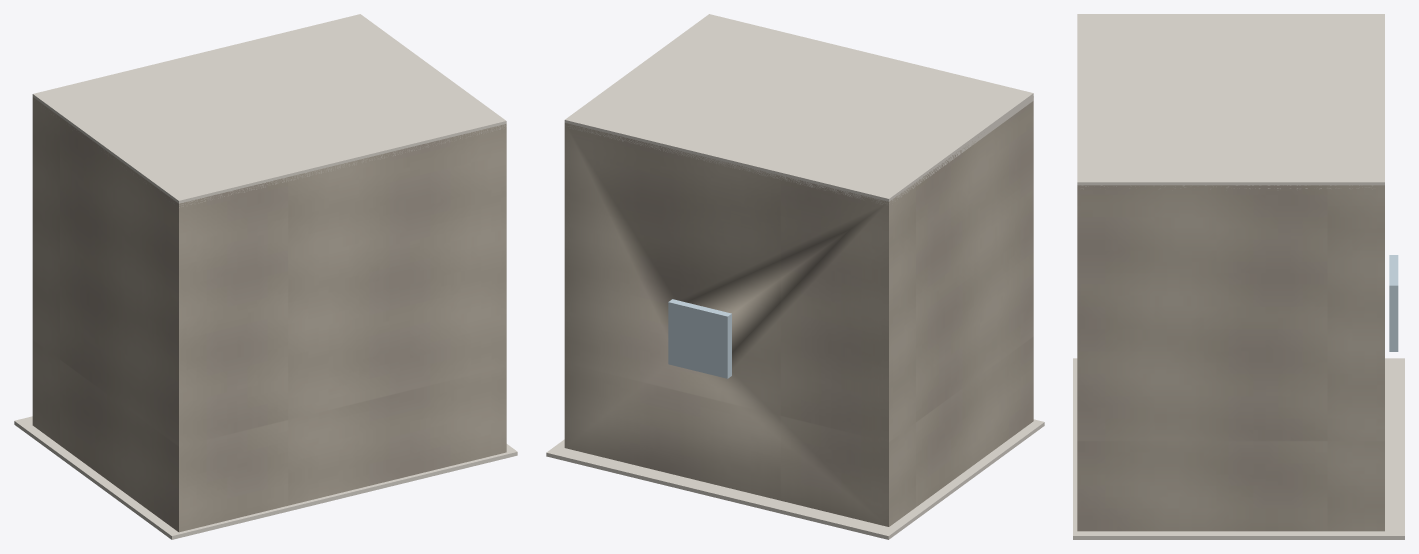
File: room.glb
The picture shows the model from 3 angles, left to right: view 1: azimuth 30°, elevation 25°; view 2: azimuth 150°, elevation 25°; view 3: azimuth 270°, elevation 25°; orthographic projection. The views are drawn at different scales.
Parts seen in each view (by area): view 1: front_wall, ceiling, side_wall, floor, back_wall; view 2: back_wall, ceiling, side_wall, floor, window_backing, front_wall, right_wall; view 3: right_wall, ceiling, floor, front_wall, back_wall, window_backing.
Boxes of the visible parts, x1=… form: front_wall: x1=175, y1=124, x2=506, y2=532; ceiling: x1=32, y1=14, x2=506, y2=207; side_wall: x1=32, y1=97, x2=175, y2=529; floor: x1=14, y1=416, x2=517, y2=539; back_wall: x1=32, y1=97, x2=35, y2=427; back_wall: x1=564, y1=123, x2=891, y2=526; ceiling: x1=564, y1=14, x2=1033, y2=204; side_wall: x1=883, y1=103, x2=1030, y2=526; floor: x1=546, y1=419, x2=1044, y2=539; window_backing: x1=668, y1=299, x2=731, y2=378; front_wall: x1=1030, y1=96, x2=1033, y2=422; right_wall: x1=564, y1=123, x2=569, y2=447; right_wall: x1=1084, y1=185, x2=1384, y2=531; ceiling: x1=1077, y1=14, x2=1384, y2=189; floor: x1=1073, y1=358, x2=1404, y2=539; front_wall: x1=1077, y1=185, x2=1083, y2=531; back_wall: x1=1378, y1=185, x2=1384, y2=531; window_backing: x1=1389, y1=255, x2=1398, y2=351.
Bounding box in the file's own units: 3.8 × 3.52 × 3.
Materials: 13 (5 with a texture image).
